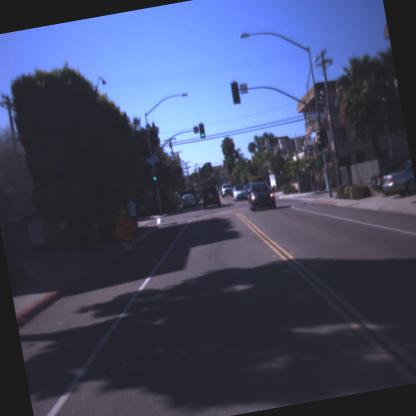trafficlight: (198, 122, 206, 137), (150, 171, 158, 185)
